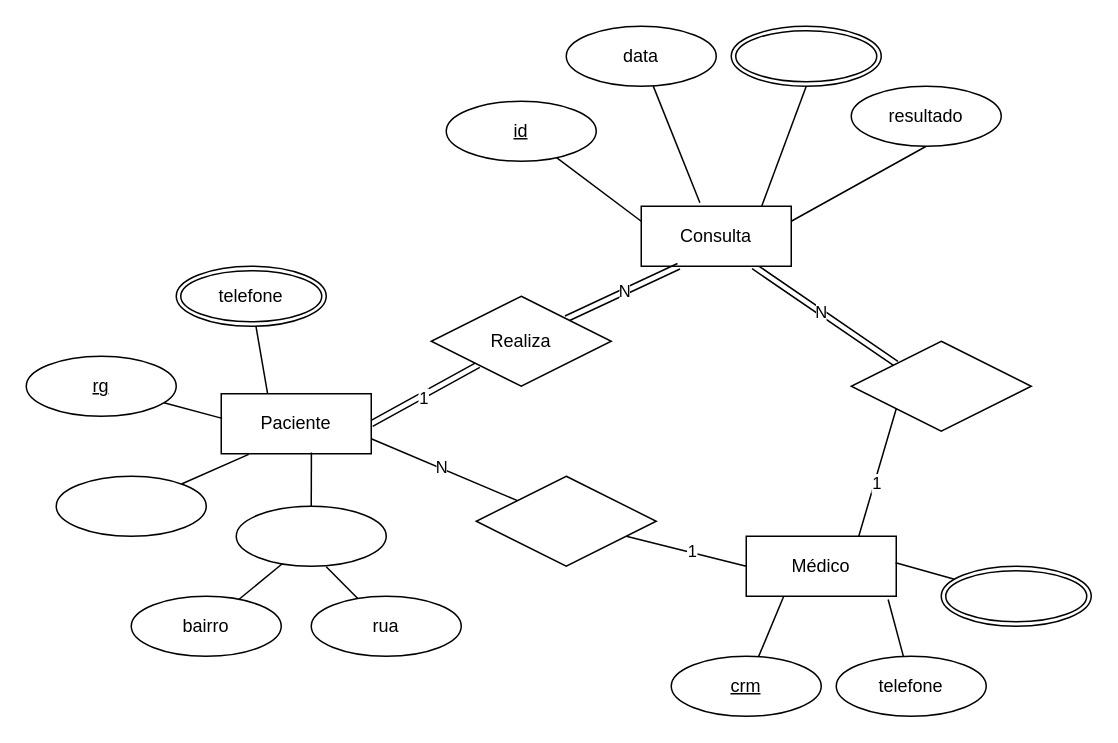
Some shapes in this 1118 by 743 pixel diagram are drawn without their labels. The shapes that lost their labels are listed below. From the top down, each one's centre as x and y in pixels, then its label:
the point at 805,55: tipo
the point at 940,385: Participa
the point at 130,505: cpf
the point at 565,520: Possui
the point at 310,535: endereço
the point at 1015,595: especialização
